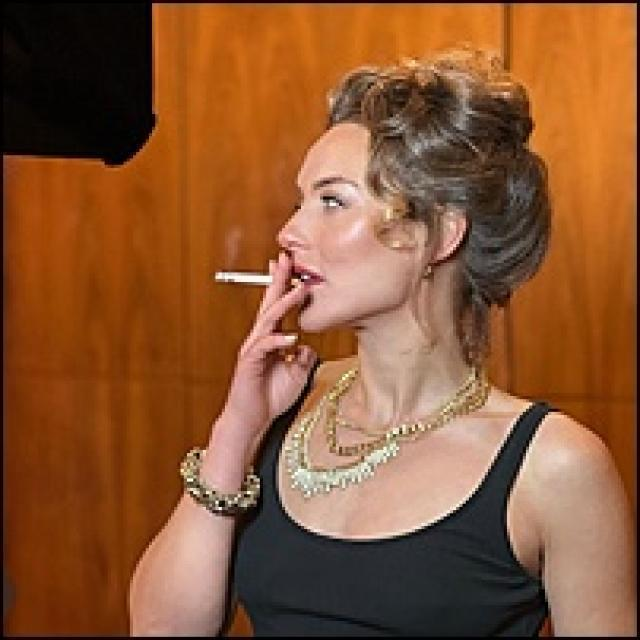rokok: (213, 269, 299, 289)
